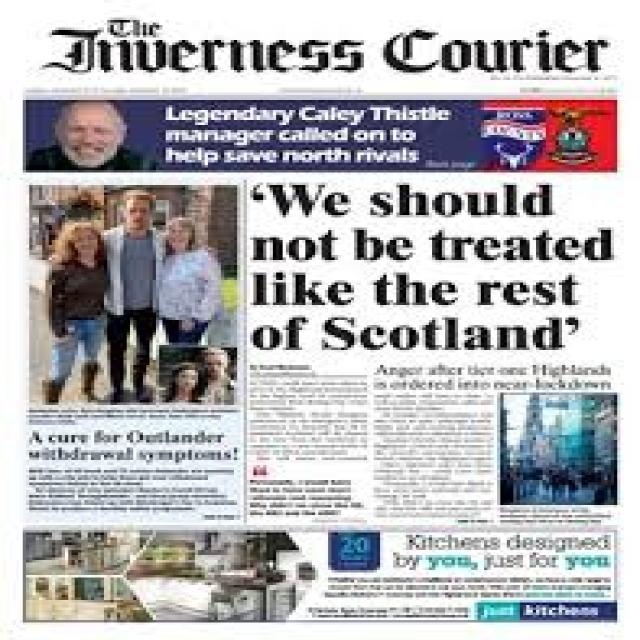paper: (2, 0, 624, 640)
